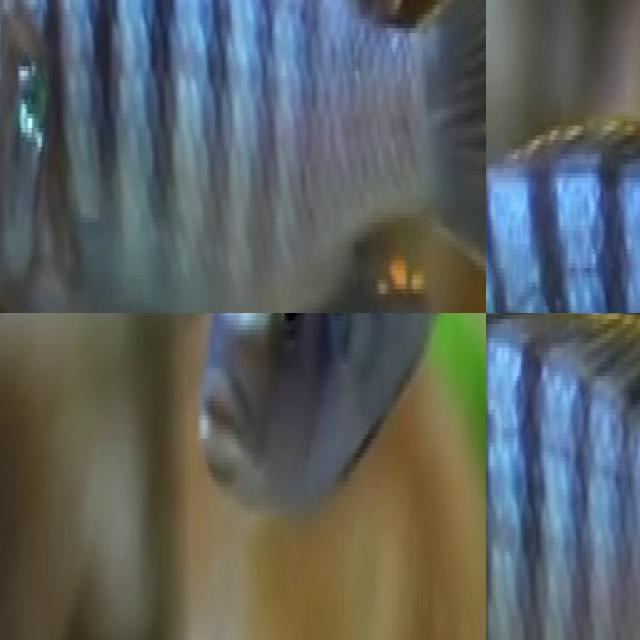fish: (0, 0, 486, 313), (486, 313, 640, 640), (486, 16, 640, 313)
